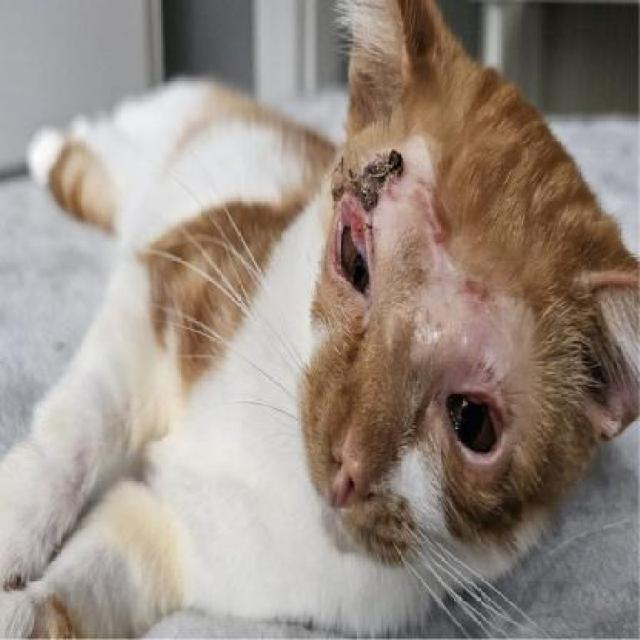cat: (32, 37, 640, 640)
injured: (320, 98, 412, 360)
